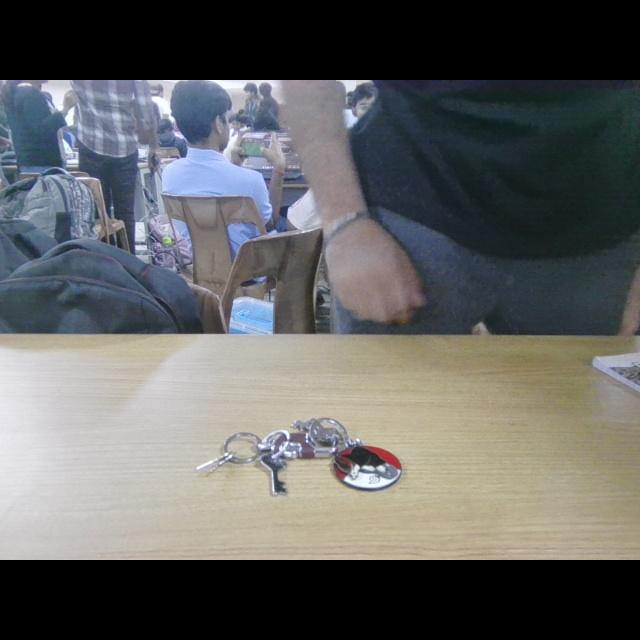keys: (188, 401, 410, 512)
